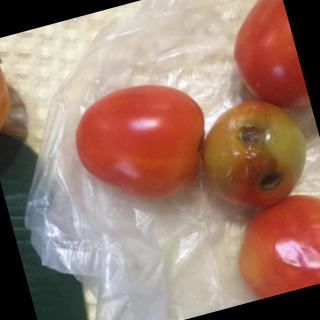Tomat: (52, 65, 226, 226), (188, 80, 320, 218), (211, 173, 320, 301), (212, 1, 311, 123)
